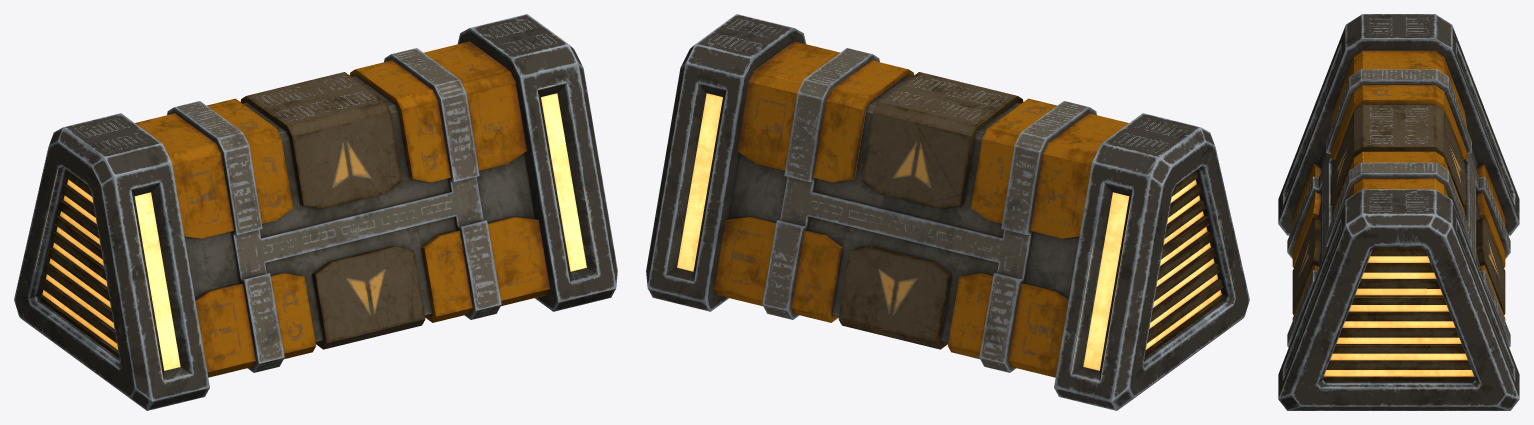
The picture shows the model from 3 angles, left to right: view 1: azimuth 30°, elevation 25°; view 2: azimuth 150°, elevation 25°; view 3: azimuth 270°, elevation 25°; orthographic projection. The views are drawn at different scales.
Visible parts, largest first — view 1: Box_six_low; view 2: Box_six_low; view 3: Box_six_low.
Part boxes in pixels (x1,y1,x2,y2): Box_six_low: (14,14,617,410); Box_six_low: (646,14,1249,410); Box_six_low: (1278,14,1519,410).
Size of the model in its own units: 207 by 91.22 by 101.
1 material, 1 textured.
